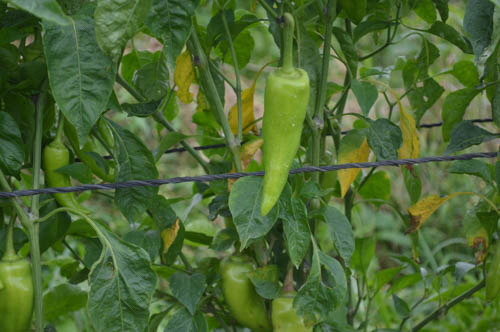ChiliPepper: (261, 70, 319, 224), (215, 257, 262, 325), (42, 144, 83, 214), (73, 120, 119, 181), (2, 260, 35, 330)
